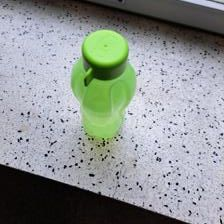bottle: (70, 25, 140, 140)
